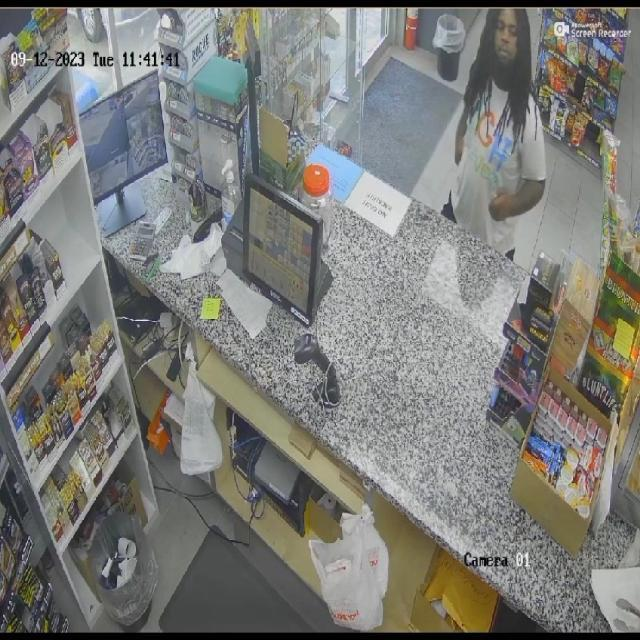normal: (439, 6, 551, 264)
